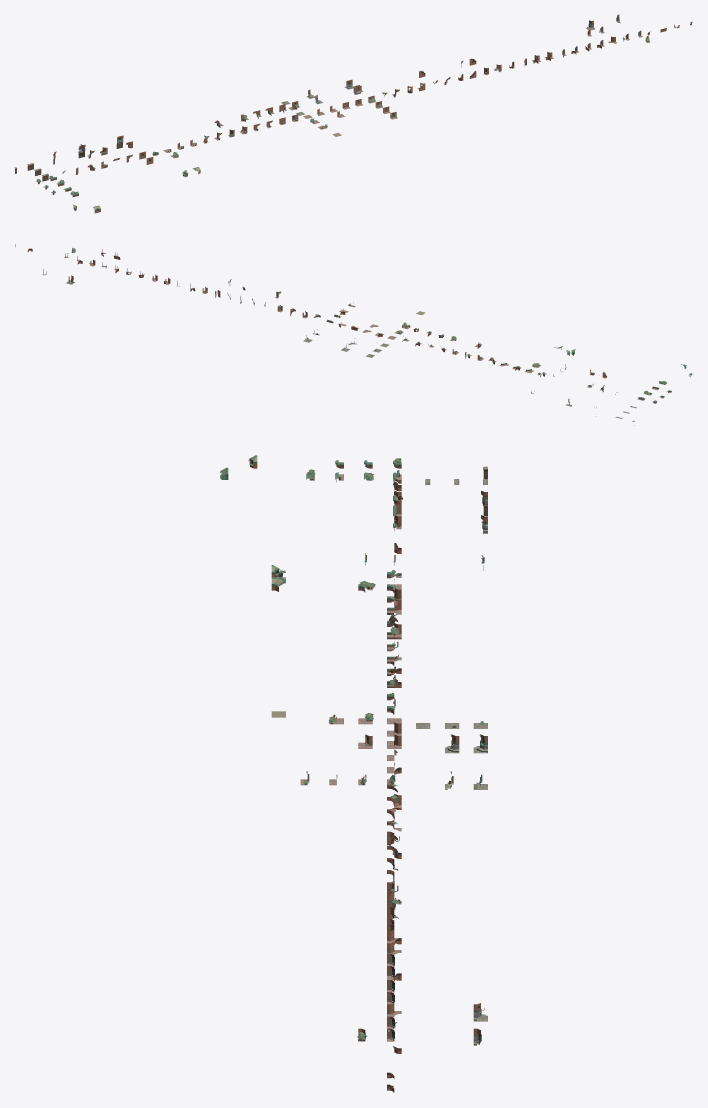
The model's file is brickblock.glb.
3 views of the same model, one above another, from view 1: azimuth 30°, elevation 25°; view 2: azimuth 150°, elevation 25°; view 3: azimuth 270°, elevation 25° (orthographic). The views are drawn at different scales.
Bounding box in the file's own units: 103 × 3.92 × 18.59.
Materials: 1 (1 with a texture image).
